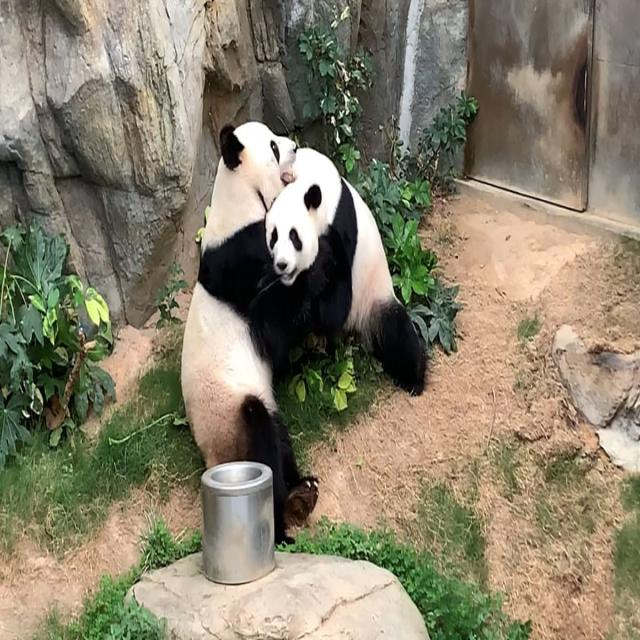Panda: (175, 109, 328, 539), (267, 143, 435, 403)
